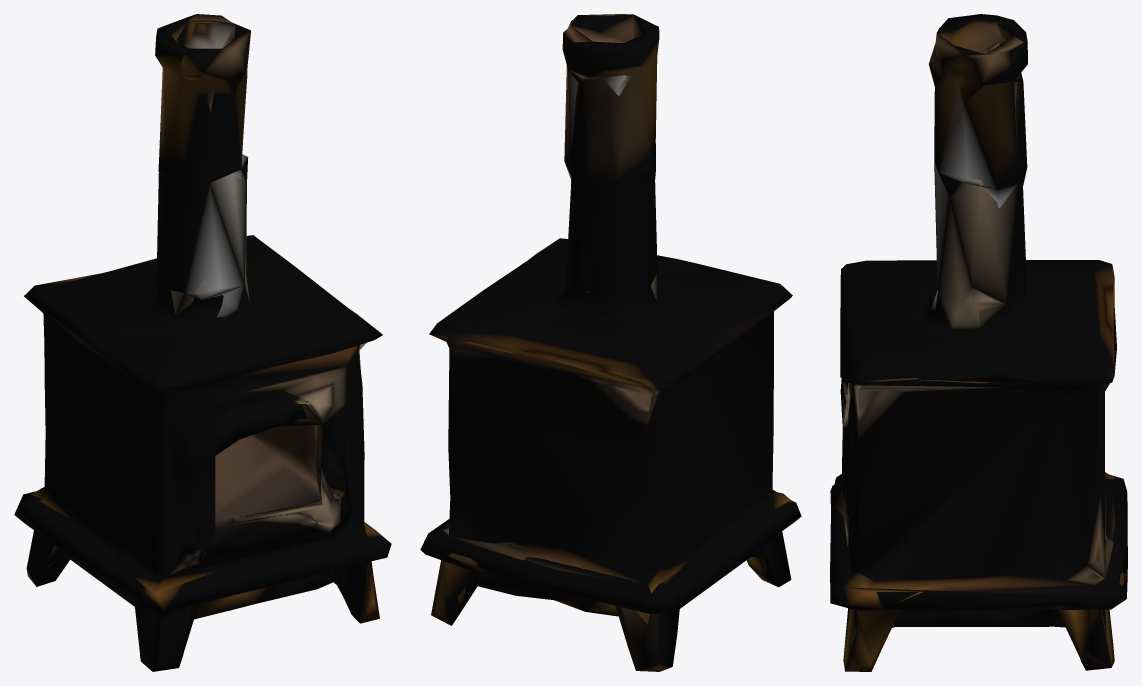
The model's file is gen3d-wood-stove-lod0.glb.
3 views of the same model, side by side, from view 1: azimuth 30°, elevation 25°; view 2: azimuth 150°, elevation 25°; view 3: azimuth 270°, elevation 25° (orthographic). The views are drawn at different scales.
Parts seen in each view (by area): view 1: part_0; view 2: part_0; view 3: part_0.
Part boxes in pixels (x1,y1,x2,y2): part_0: (14, 14, 391, 671); part_0: (420, 14, 801, 671); part_0: (830, 14, 1127, 671).
Size of the model in its own units: 0.4639 by 0.9995 by 0.464.
